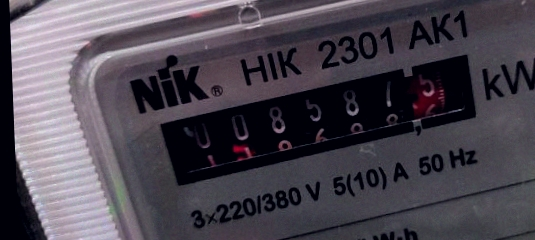0: (225, 108, 253, 143), (188, 117, 215, 150)
5: (301, 92, 325, 124), (414, 65, 437, 97)
6: (420, 100, 439, 118)
7: (375, 76, 398, 111)
8: (337, 84, 362, 118), (264, 102, 289, 135)
screen: (148, 52, 500, 188)
